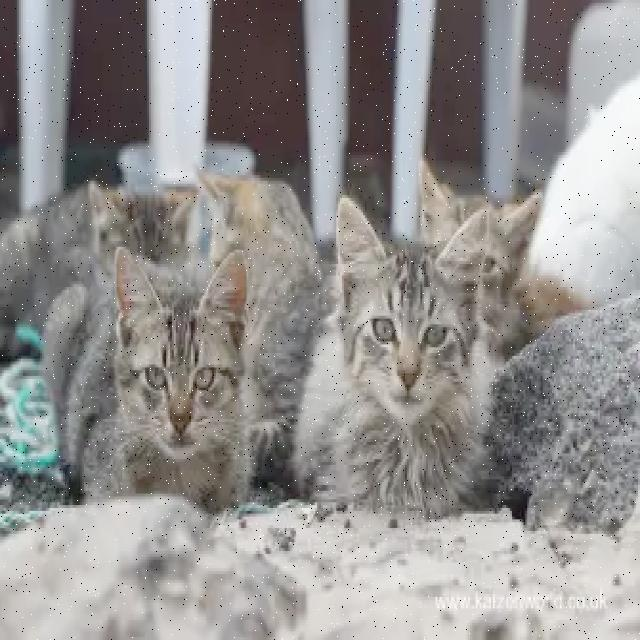cat: (296, 197, 502, 517), (45, 248, 250, 510), (202, 177, 321, 493), (0, 182, 199, 358), (476, 193, 541, 363), (421, 161, 489, 249)
